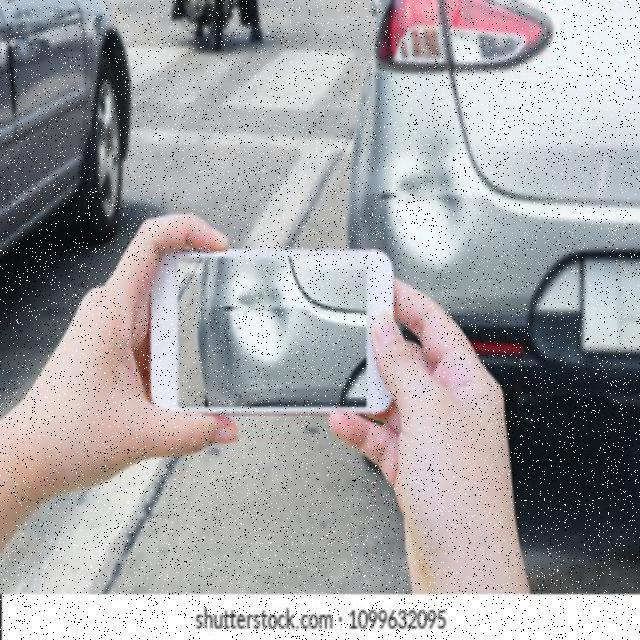rear-bumper-dent: (344, 66, 544, 391)
